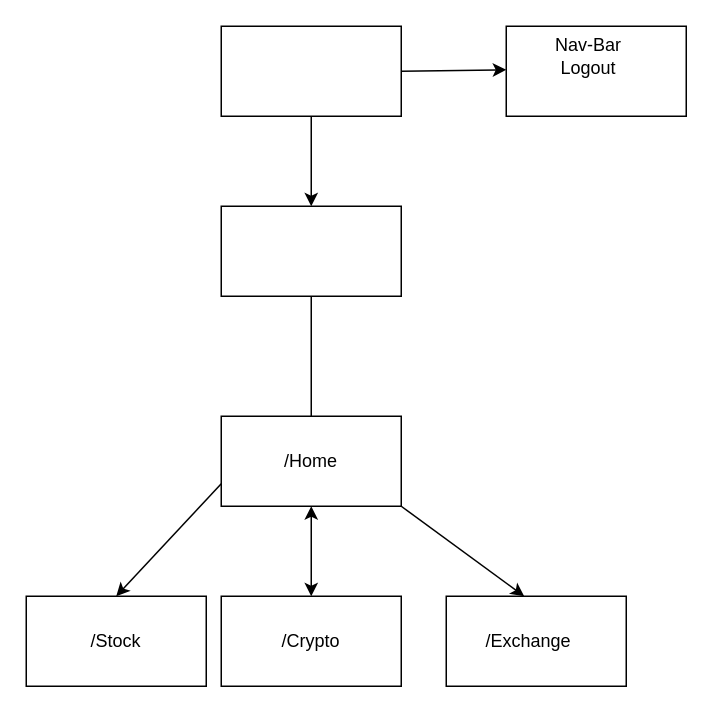
Some shapes in this 713 by 713 pixel diagram are drawn without their labels. Here are the shapes that lost their labels. From the top down, the centre of each, then its label:
pixel 310 70: App
pixel 310 250: /Register
